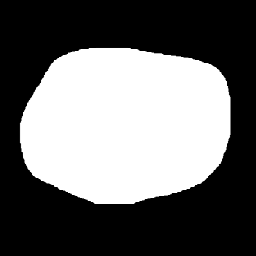mass: (25, 45, 233, 194)
